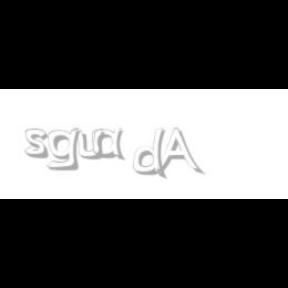A: (153, 128, 201, 176)
a: (92, 128, 130, 160)
d: (134, 128, 170, 180)
g: (46, 128, 84, 171)
s: (25, 128, 53, 160)
u: (74, 128, 108, 160)
